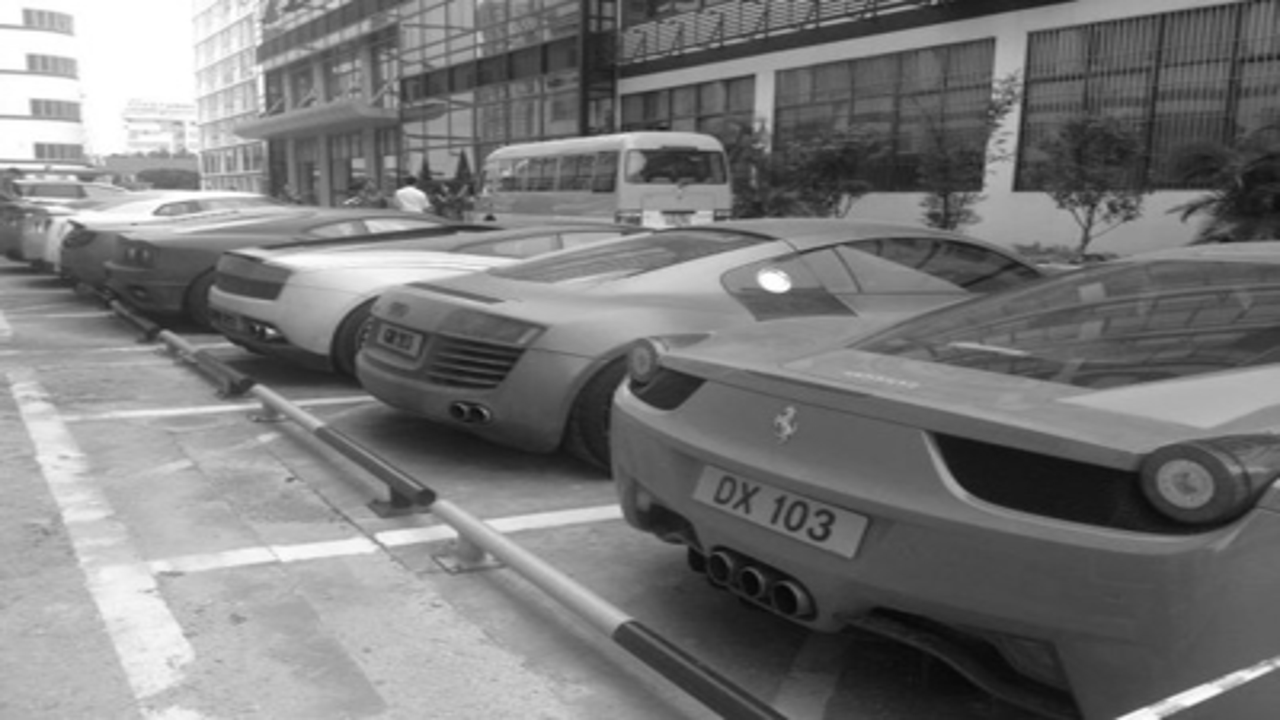license: (694, 459, 876, 569), (368, 314, 428, 369)
